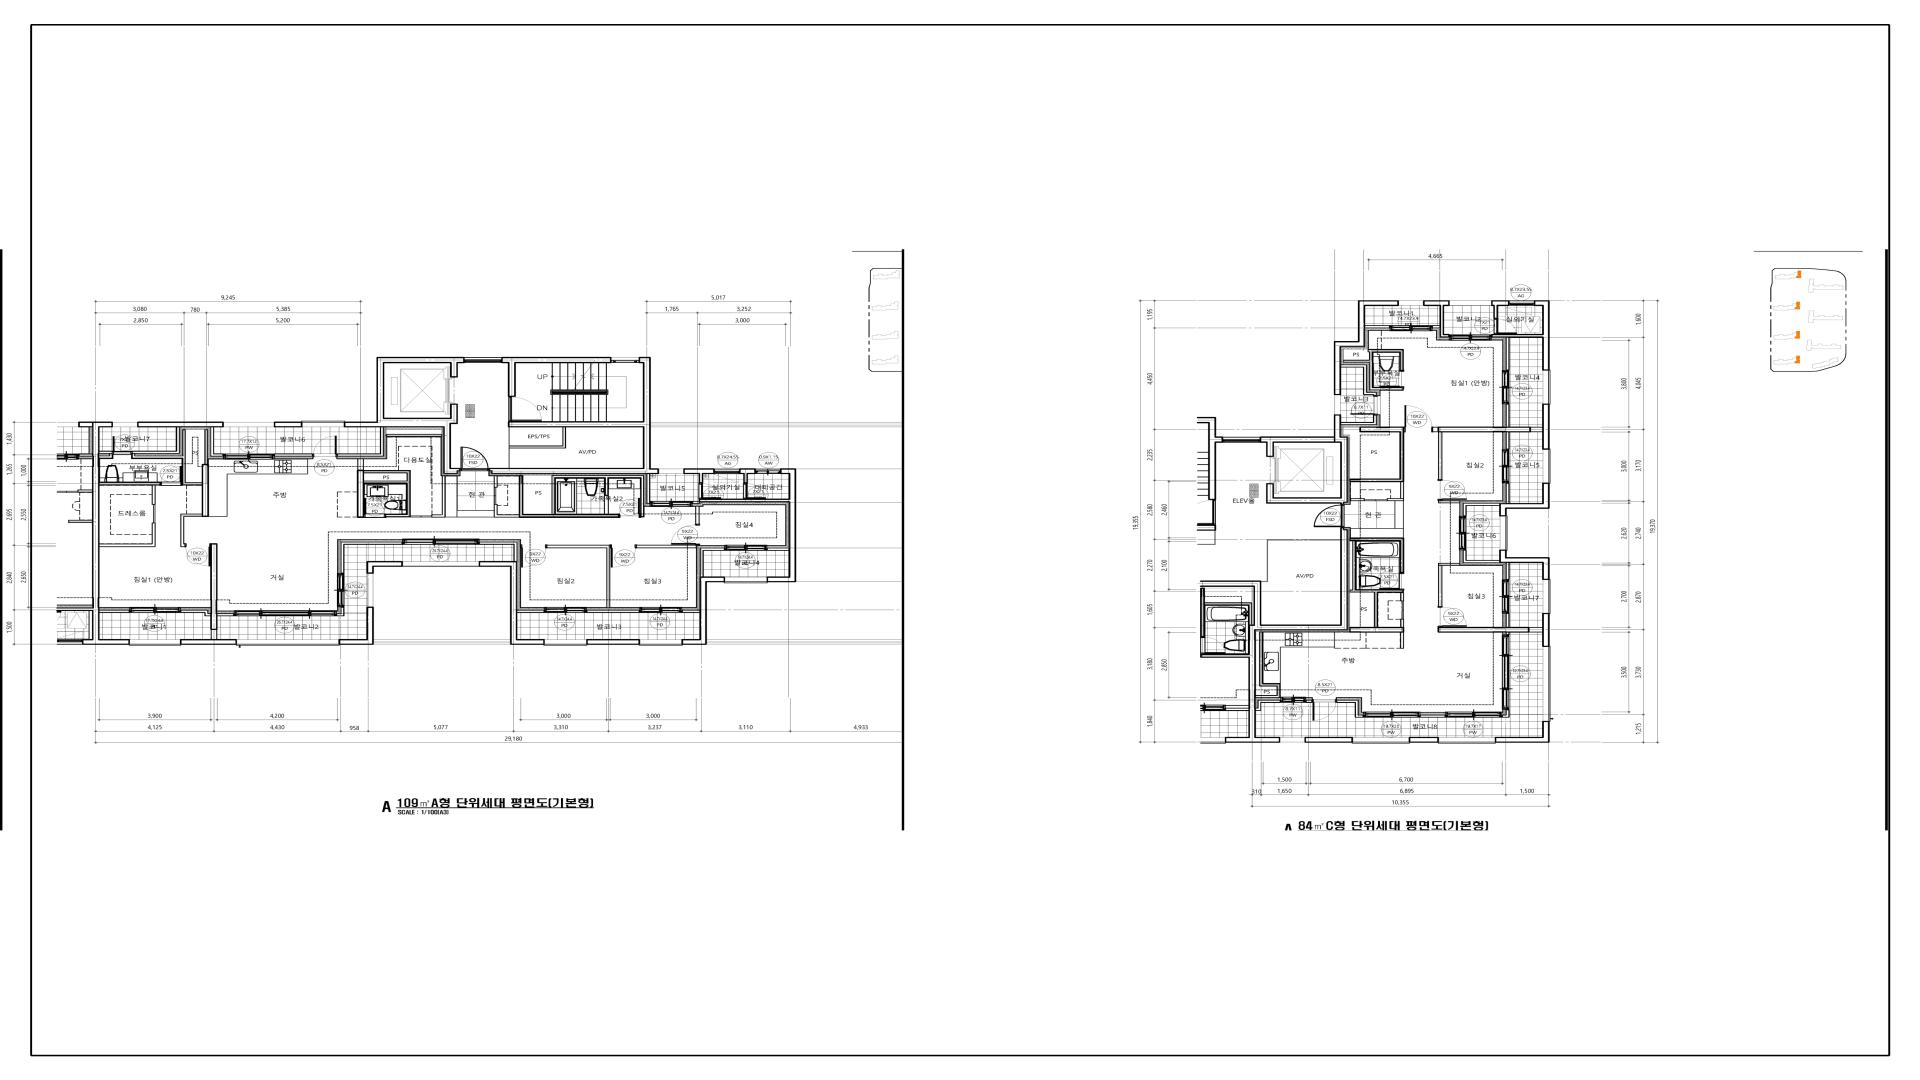door: (508, 397, 542, 421), (1404, 405, 1433, 433), (1313, 505, 1345, 527), (460, 447, 489, 471), (1437, 479, 1468, 500), (670, 524, 700, 545), (611, 545, 637, 568), (521, 545, 547, 568), (1437, 607, 1468, 626), (185, 543, 210, 567), (313, 435, 338, 458), (1350, 396, 1378, 415), (1312, 699, 1336, 721), (160, 465, 182, 487), (618, 497, 640, 518), (364, 498, 386, 518), (1379, 572, 1404, 589), (1379, 371, 1404, 388), (112, 436, 132, 455), (1494, 318, 1516, 334), (699, 483, 721, 498), (744, 483, 766, 498), (152, 505, 156, 522), (1402, 601, 1404, 618), (493, 488, 496, 504), (1365, 500, 1387, 501), (411, 516, 431, 517), (1294, 539, 1309, 541)
wall: (1249, 527, 1349, 742), (489, 357, 658, 475), (344, 357, 464, 475), (699, 468, 796, 583), (82, 422, 129, 645), (132, 427, 210, 547), (1432, 405, 1543, 479), (1261, 414, 1348, 505), (493, 475, 645, 518), (1349, 538, 1404, 649), (1335, 301, 1399, 394), (479, 560, 545, 645), (181, 543, 233, 640), (502, 357, 612, 397), (1349, 427, 1404, 501), (1491, 301, 1549, 371), (547, 545, 611, 608), (357, 459, 411, 518), (682, 576, 724, 645), (1344, 349, 1404, 390), (1437, 613, 1543, 634), (1197, 417, 1222, 500), (340, 542, 402, 574), (1499, 483, 1549, 516), (1255, 632, 1280, 698), (1499, 550, 1549, 580), (100, 481, 160, 505), (100, 522, 156, 547), (339, 607, 375, 645), (338, 427, 384, 456), (1262, 539, 1294, 582), (1495, 721, 1549, 742), (1341, 364, 1377, 396), (1423, 301, 1449, 338), (1439, 563, 1460, 607), (699, 547, 724, 576), (480, 542, 518, 560), (431, 475, 446, 518), (1462, 550, 1499, 563), (1462, 502, 1499, 516), (1336, 700, 1364, 717), (367, 560, 402, 574), (137, 422, 224, 427), (684, 468, 715, 483), (210, 427, 223, 456), (1491, 301, 1510, 319), (1341, 415, 1377, 425), (1543, 404, 1549, 450), (181, 640, 237, 645), (587, 640, 640, 645), (1255, 700, 1280, 711), (1304, 737, 1353, 742), (637, 545, 696, 549), (740, 468, 756, 483), (386, 434, 442, 438), (1543, 613, 1549, 646), (587, 609, 640, 613), (1408, 737, 1439, 742), (274, 422, 302, 427), (1506, 338, 1510, 371), (646, 475, 650, 504), (100, 609, 129, 613), (517, 609, 545, 613), (274, 454, 313, 456), (1197, 525, 1216, 530), (100, 451, 112, 459), (695, 506, 700, 524), (1439, 500, 1460, 504), (767, 547, 789, 551), (1506, 484, 1510, 504), (336, 607, 344, 616), (682, 609, 699, 613), (1506, 563, 1510, 580), (1365, 326, 1390, 328), (1420, 715, 1445, 717), (1502, 709, 1510, 717), (493, 476, 497, 488), (1349, 498, 1365, 501), (1309, 539, 1340, 541), (1432, 326, 1440, 328), (1305, 700, 1312, 703)
window: (237, 640, 339, 646), (1502, 634, 1510, 709), (1543, 646, 1551, 721), (233, 611, 336, 616), (402, 538, 480, 545), (402, 560, 479, 567), (1439, 737, 1495, 744), (1353, 737, 1408, 744), (129, 640, 181, 646), (129, 607, 181, 613), (223, 454, 274, 460), (1445, 712, 1502, 717), (1364, 712, 1420, 717), (724, 545, 767, 551), (724, 576, 767, 583), (302, 421, 344, 427), (640, 607, 682, 613), (545, 607, 587, 613), (640, 640, 682, 646), (545, 640, 587, 646), (1458, 516, 1466, 550), (1502, 450, 1510, 484), (1502, 371, 1510, 405), (1543, 580, 1551, 615), (1499, 516, 1507, 550), (224, 422, 274, 427), (1502, 580, 1510, 613), (1543, 450, 1551, 483), (1543, 371, 1551, 404), (367, 574, 375, 607), (1222, 436, 1261, 443), (1449, 335, 1491, 340), (1390, 326, 1432, 331), (1449, 301, 1491, 306), (650, 501, 692, 506), (338, 574, 344, 607), (464, 357, 502, 363), (612, 357, 638, 364), (1280, 696, 1305, 703), (659, 468, 684, 475), (715, 468, 740, 475), (756, 468, 781, 475), (112, 422, 137, 427), (1335, 394, 1341, 414), (1510, 301, 1534, 306), (1280, 737, 1304, 742), (1399, 301, 1423, 306)
